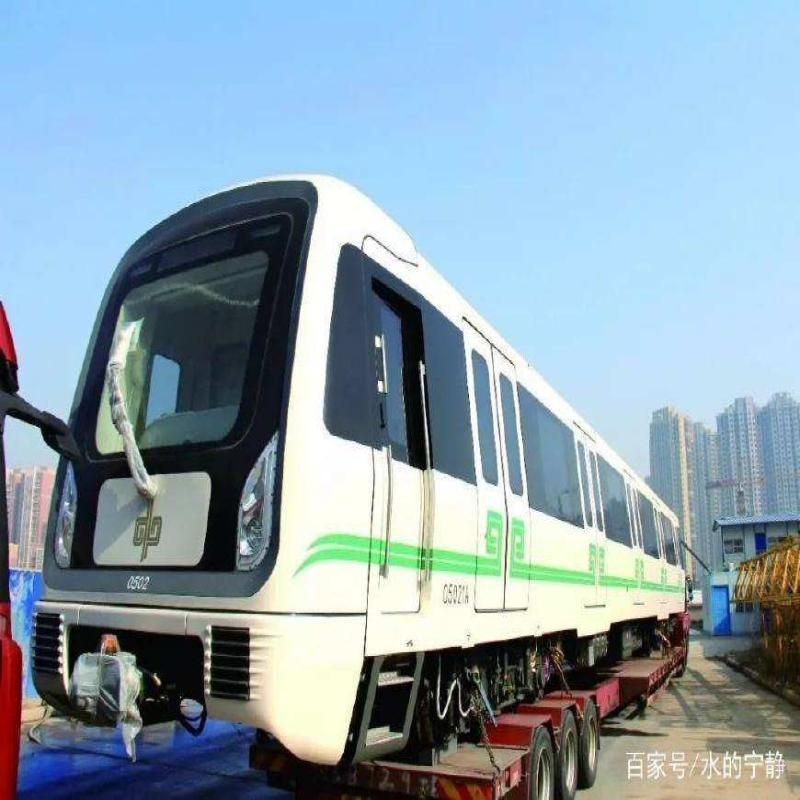train: (51, 191, 702, 756)
